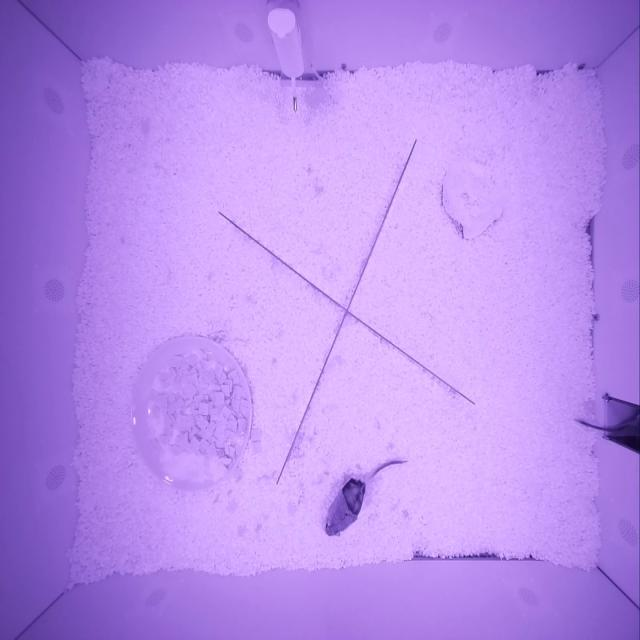adult_back: (324, 476, 367, 537)
